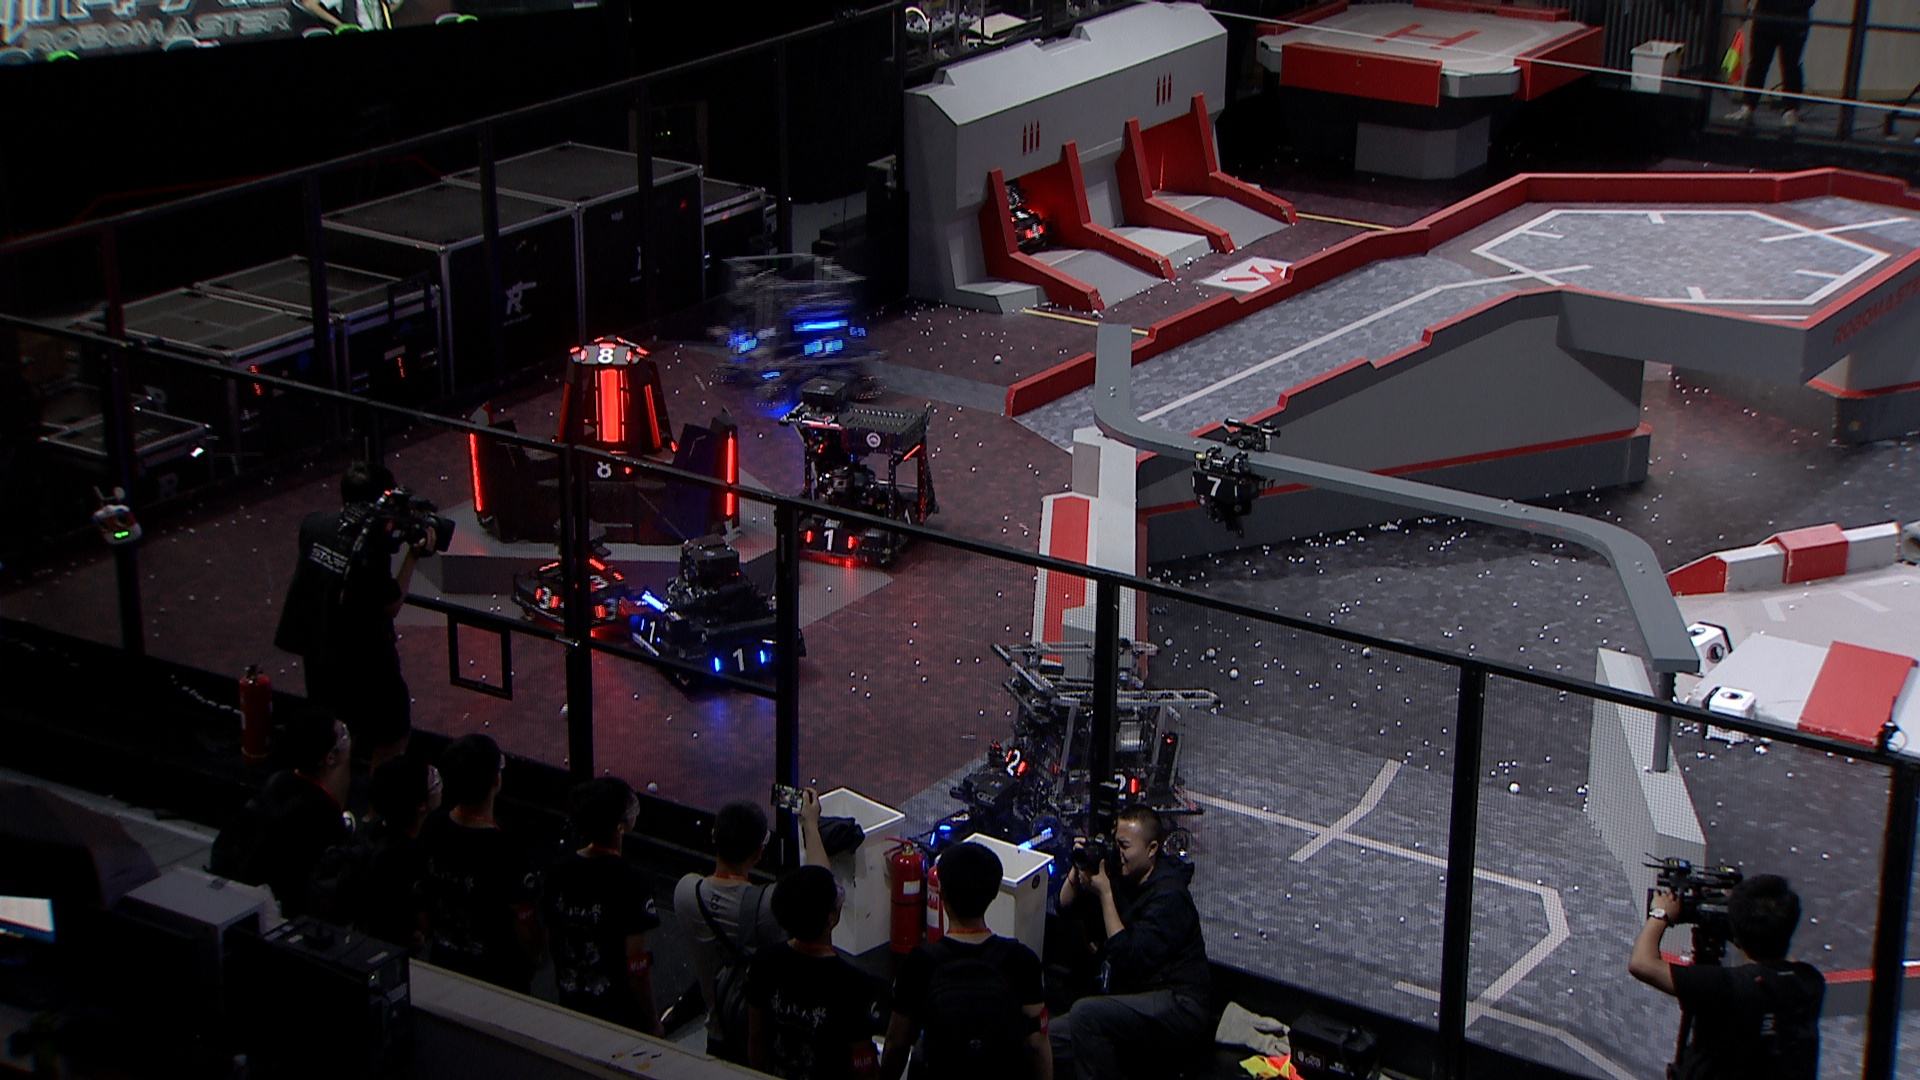armor: (593, 367, 626, 444), (465, 433, 487, 512), (713, 645, 767, 673), (1188, 472, 1240, 501), (641, 381, 662, 451), (803, 527, 856, 555), (579, 344, 636, 367), (723, 436, 737, 516), (802, 334, 843, 361), (553, 382, 571, 440), (584, 570, 626, 593), (585, 458, 632, 477), (938, 808, 975, 832), (589, 597, 622, 622), (1112, 773, 1141, 800), (531, 584, 560, 611), (1002, 746, 1027, 777), (636, 616, 662, 642), (727, 332, 760, 351), (1007, 206, 1035, 224), (898, 506, 920, 529), (1022, 223, 1046, 240)
base: (462, 338, 745, 550)
car: (982, 632, 1222, 856), (773, 372, 945, 562), (708, 248, 891, 410), (626, 542, 798, 699), (903, 761, 1073, 907), (505, 517, 640, 637), (951, 175, 1050, 261)
watcher: (1185, 415, 1280, 541)
